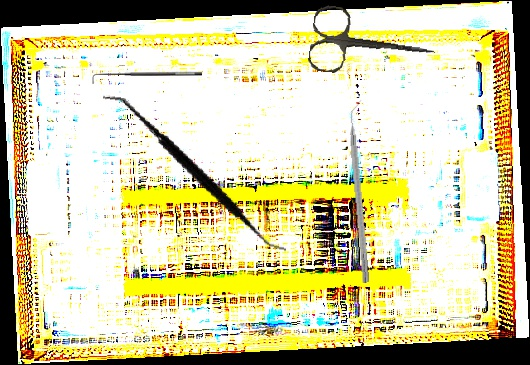Chopper: (346, 100, 380, 283)
Hook Surgical: (91, 70, 202, 84)
Iris Scissors: (307, 3, 439, 87)
Spatula Surgical: (80, 94, 309, 254)
